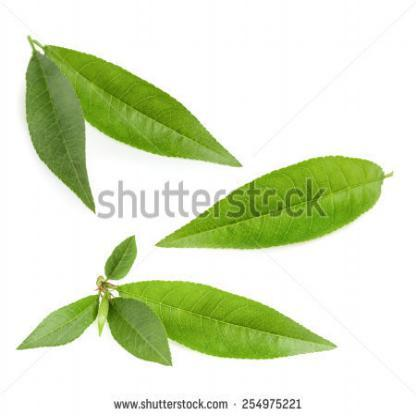Peach leaf: (44, 41, 244, 171), (152, 153, 391, 257), (120, 277, 343, 363), (28, 50, 95, 219), (4, 288, 102, 362), (106, 294, 180, 374), (98, 228, 140, 284)
